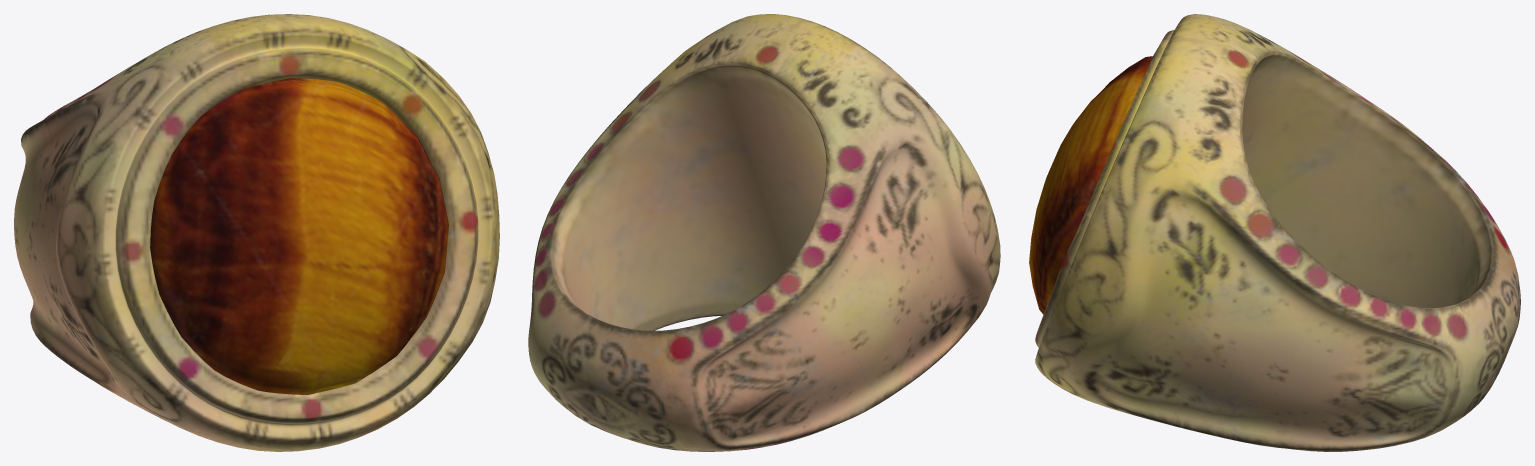
Rendered from old-ring.glb.
3 views of the same model, side by side, from view 1: azimuth 30°, elevation 25°; view 2: azimuth 150°, elevation 25°; view 3: azimuth 270°, elevation 25° (orthographic). The views are drawn at different scales.
Parts seen in each view (by area): view 1: ring_low; view 2: ring_low; view 3: ring_low.
Part boxes in pixels (<box>): ring_low: <box>14,14,499,451</box>; ring_low: <box>528,14,1000,451</box>; ring_low: <box>1029,14,1520,451</box>.
Size of the model in its own units: 1.86 by 1.66 by 2.09.
Materials: 1 (1 with a texture image).
